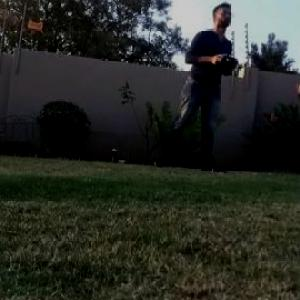follow: (154, 0, 242, 181)
